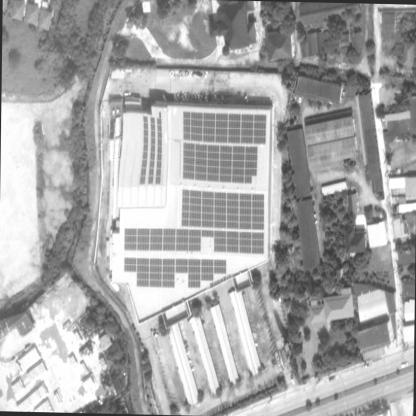solar-pv-panel: (124, 111, 266, 289), (140, 111, 162, 184)
